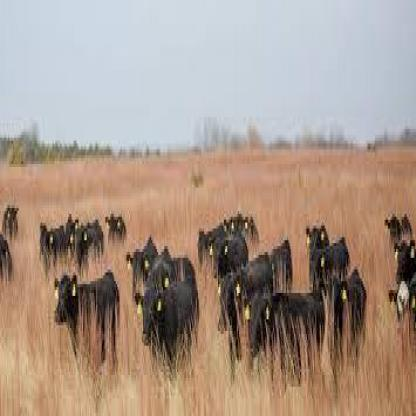cow: (245, 289, 327, 388), (218, 254, 274, 382), (54, 272, 119, 375), (134, 283, 196, 388), (333, 270, 368, 354), (126, 237, 160, 305), (312, 236, 350, 280), (209, 238, 250, 278), (72, 221, 104, 271), (38, 223, 66, 275), (395, 240, 415, 287), (104, 212, 126, 244), (2, 204, 20, 238), (0, 236, 13, 280)
